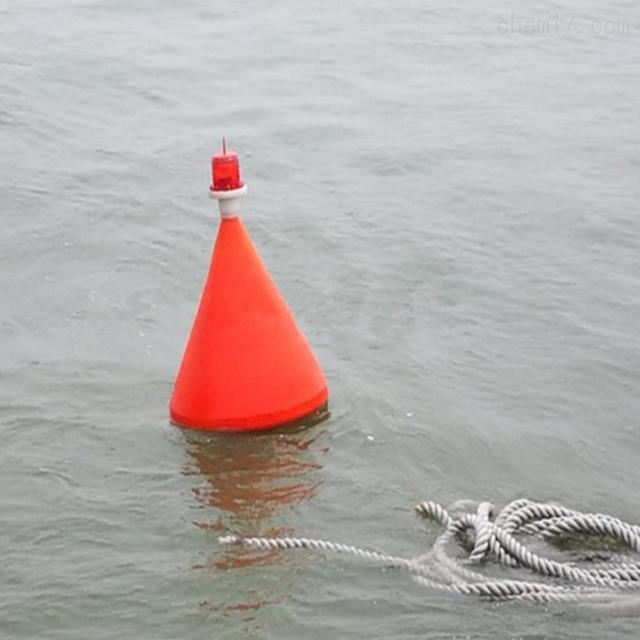buoy: (166, 132, 330, 438)
